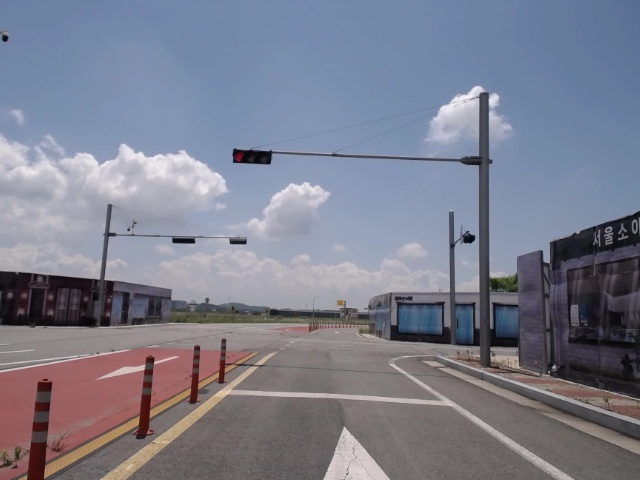red_3: (231, 149, 272, 164)
